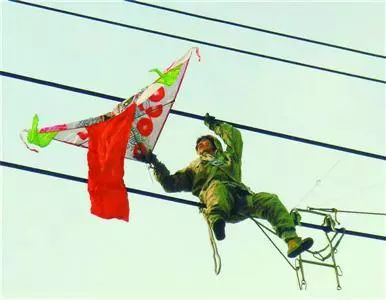kite: (23, 44, 199, 220)
